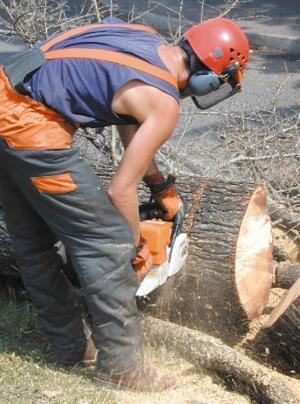person: (2, 17, 252, 394)
